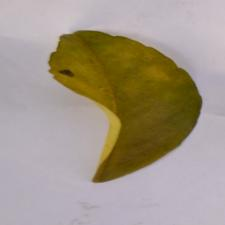Canker: (47, 47, 99, 110)
